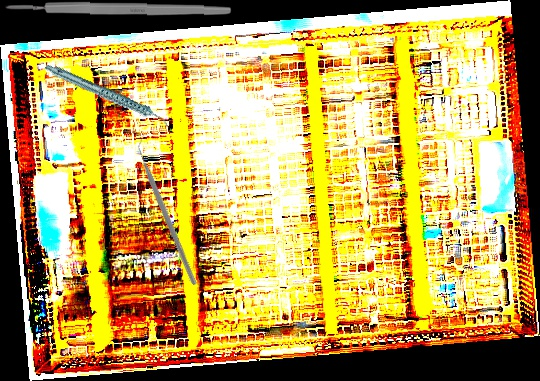Chopper: (88, 133, 250, 287)
Handpiece: (44, 40, 171, 152)
Scalpel Handle: (4, 0, 233, 17)
